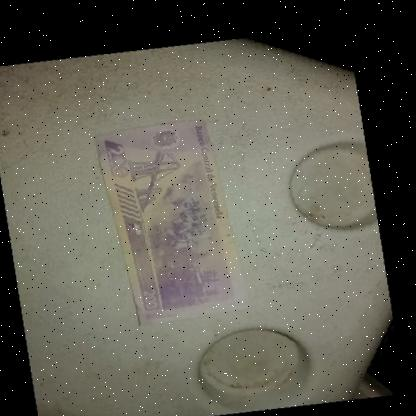vef_back: (83, 99, 268, 338)
